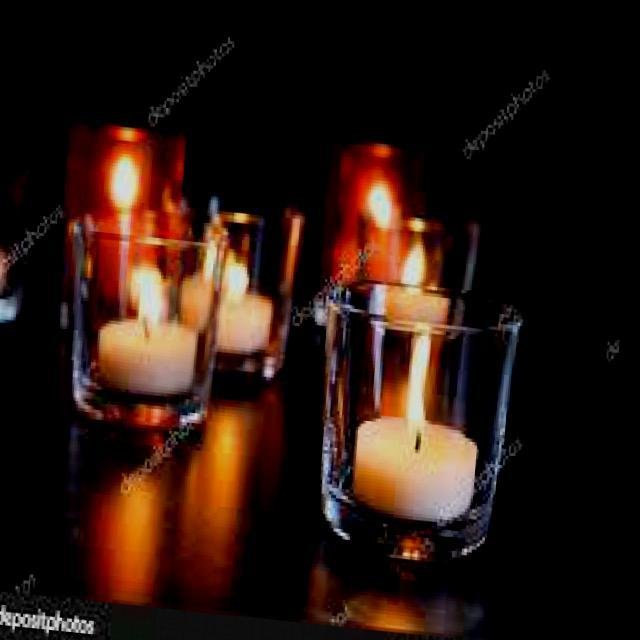Fire: (408, 318, 446, 438), (128, 255, 176, 329)
